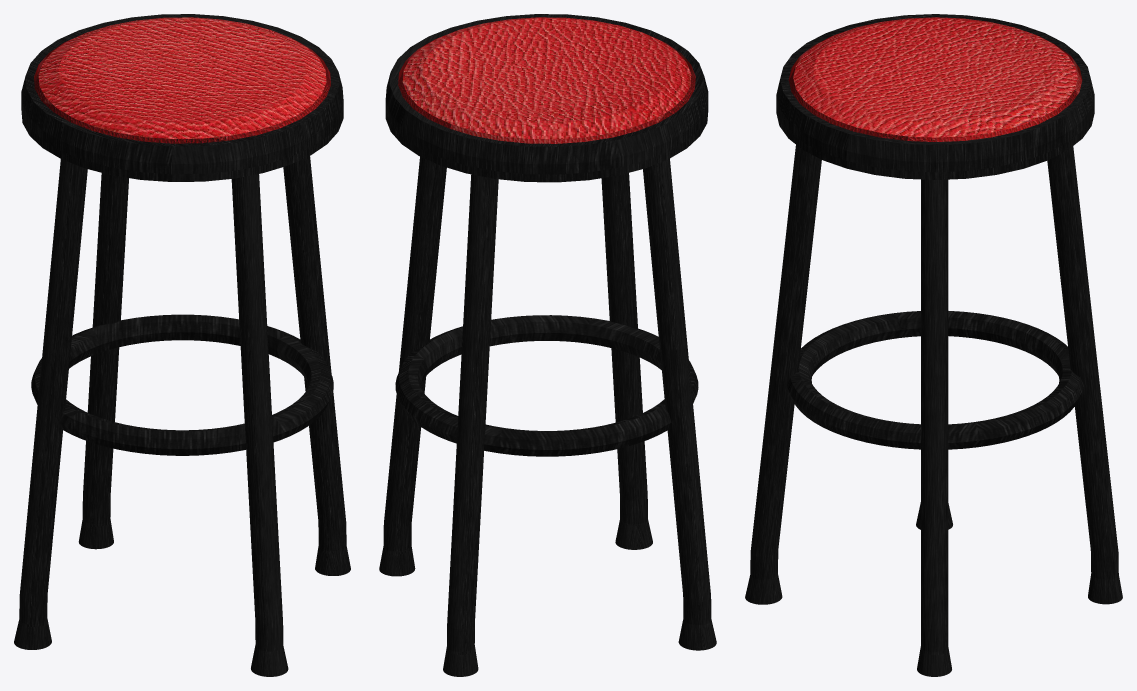
Rendered from stool.obj.
3 views of the same model, side by side, from view 1: azimuth 30°, elevation 25°; view 2: azimuth 150°, elevation 25°; view 3: azimuth 270°, elevation 25° (orthographic).
Visible parts, largest first — view 1: Cylinder; view 2: Cylinder; view 3: Cylinder.
Boxes of the visible parts, x1,y1,x2,y2 form: Cylinder: (14,14,350,676); Cylinder: (379,14,716,676); Cylinder: (745,14,1122,676).
Size of the model in its own units: 5.91 by 9.08 by 5.9.
